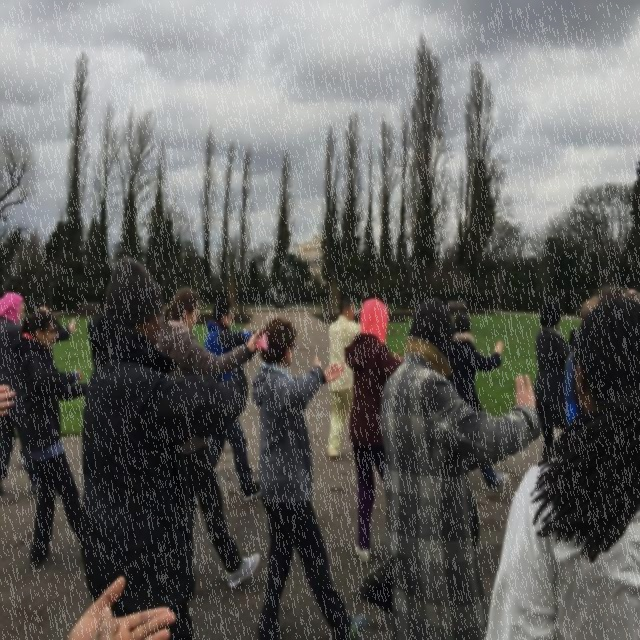pessoa: (79, 253, 251, 639), (473, 280, 639, 639), (378, 295, 544, 639), (240, 310, 378, 639), (154, 282, 264, 592), (8, 304, 122, 572), (344, 298, 404, 566), (202, 292, 262, 504), (445, 311, 511, 493), (0, 267, 25, 639), (40, 577, 178, 639), (532, 298, 578, 462), (326, 294, 362, 462), (564, 295, 608, 429), (22, 298, 78, 344)
